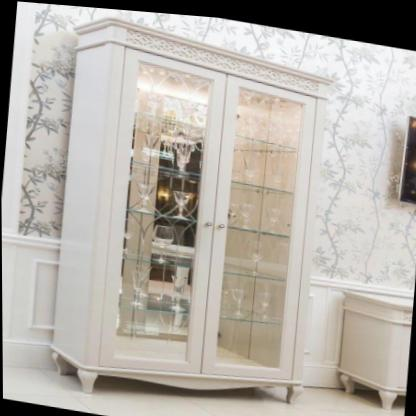Cupboard: (50, 17, 332, 402)
